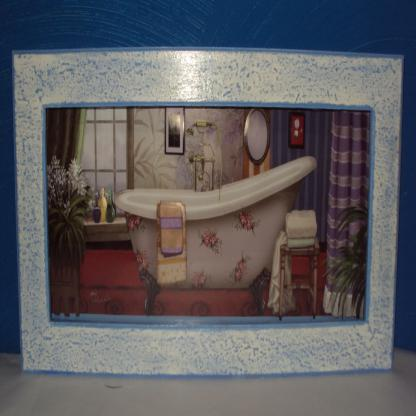picture frame: (31, 81, 386, 353)
